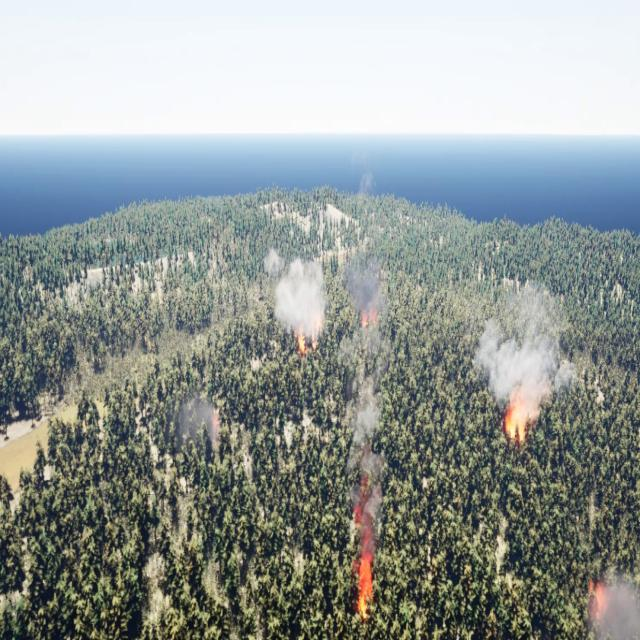fire: (505, 395, 538, 450), (355, 541, 379, 613), (294, 325, 318, 351)
smoke: (476, 289, 570, 416), (350, 243, 387, 538), (265, 244, 330, 328), (585, 572, 640, 639), (175, 390, 220, 450)
